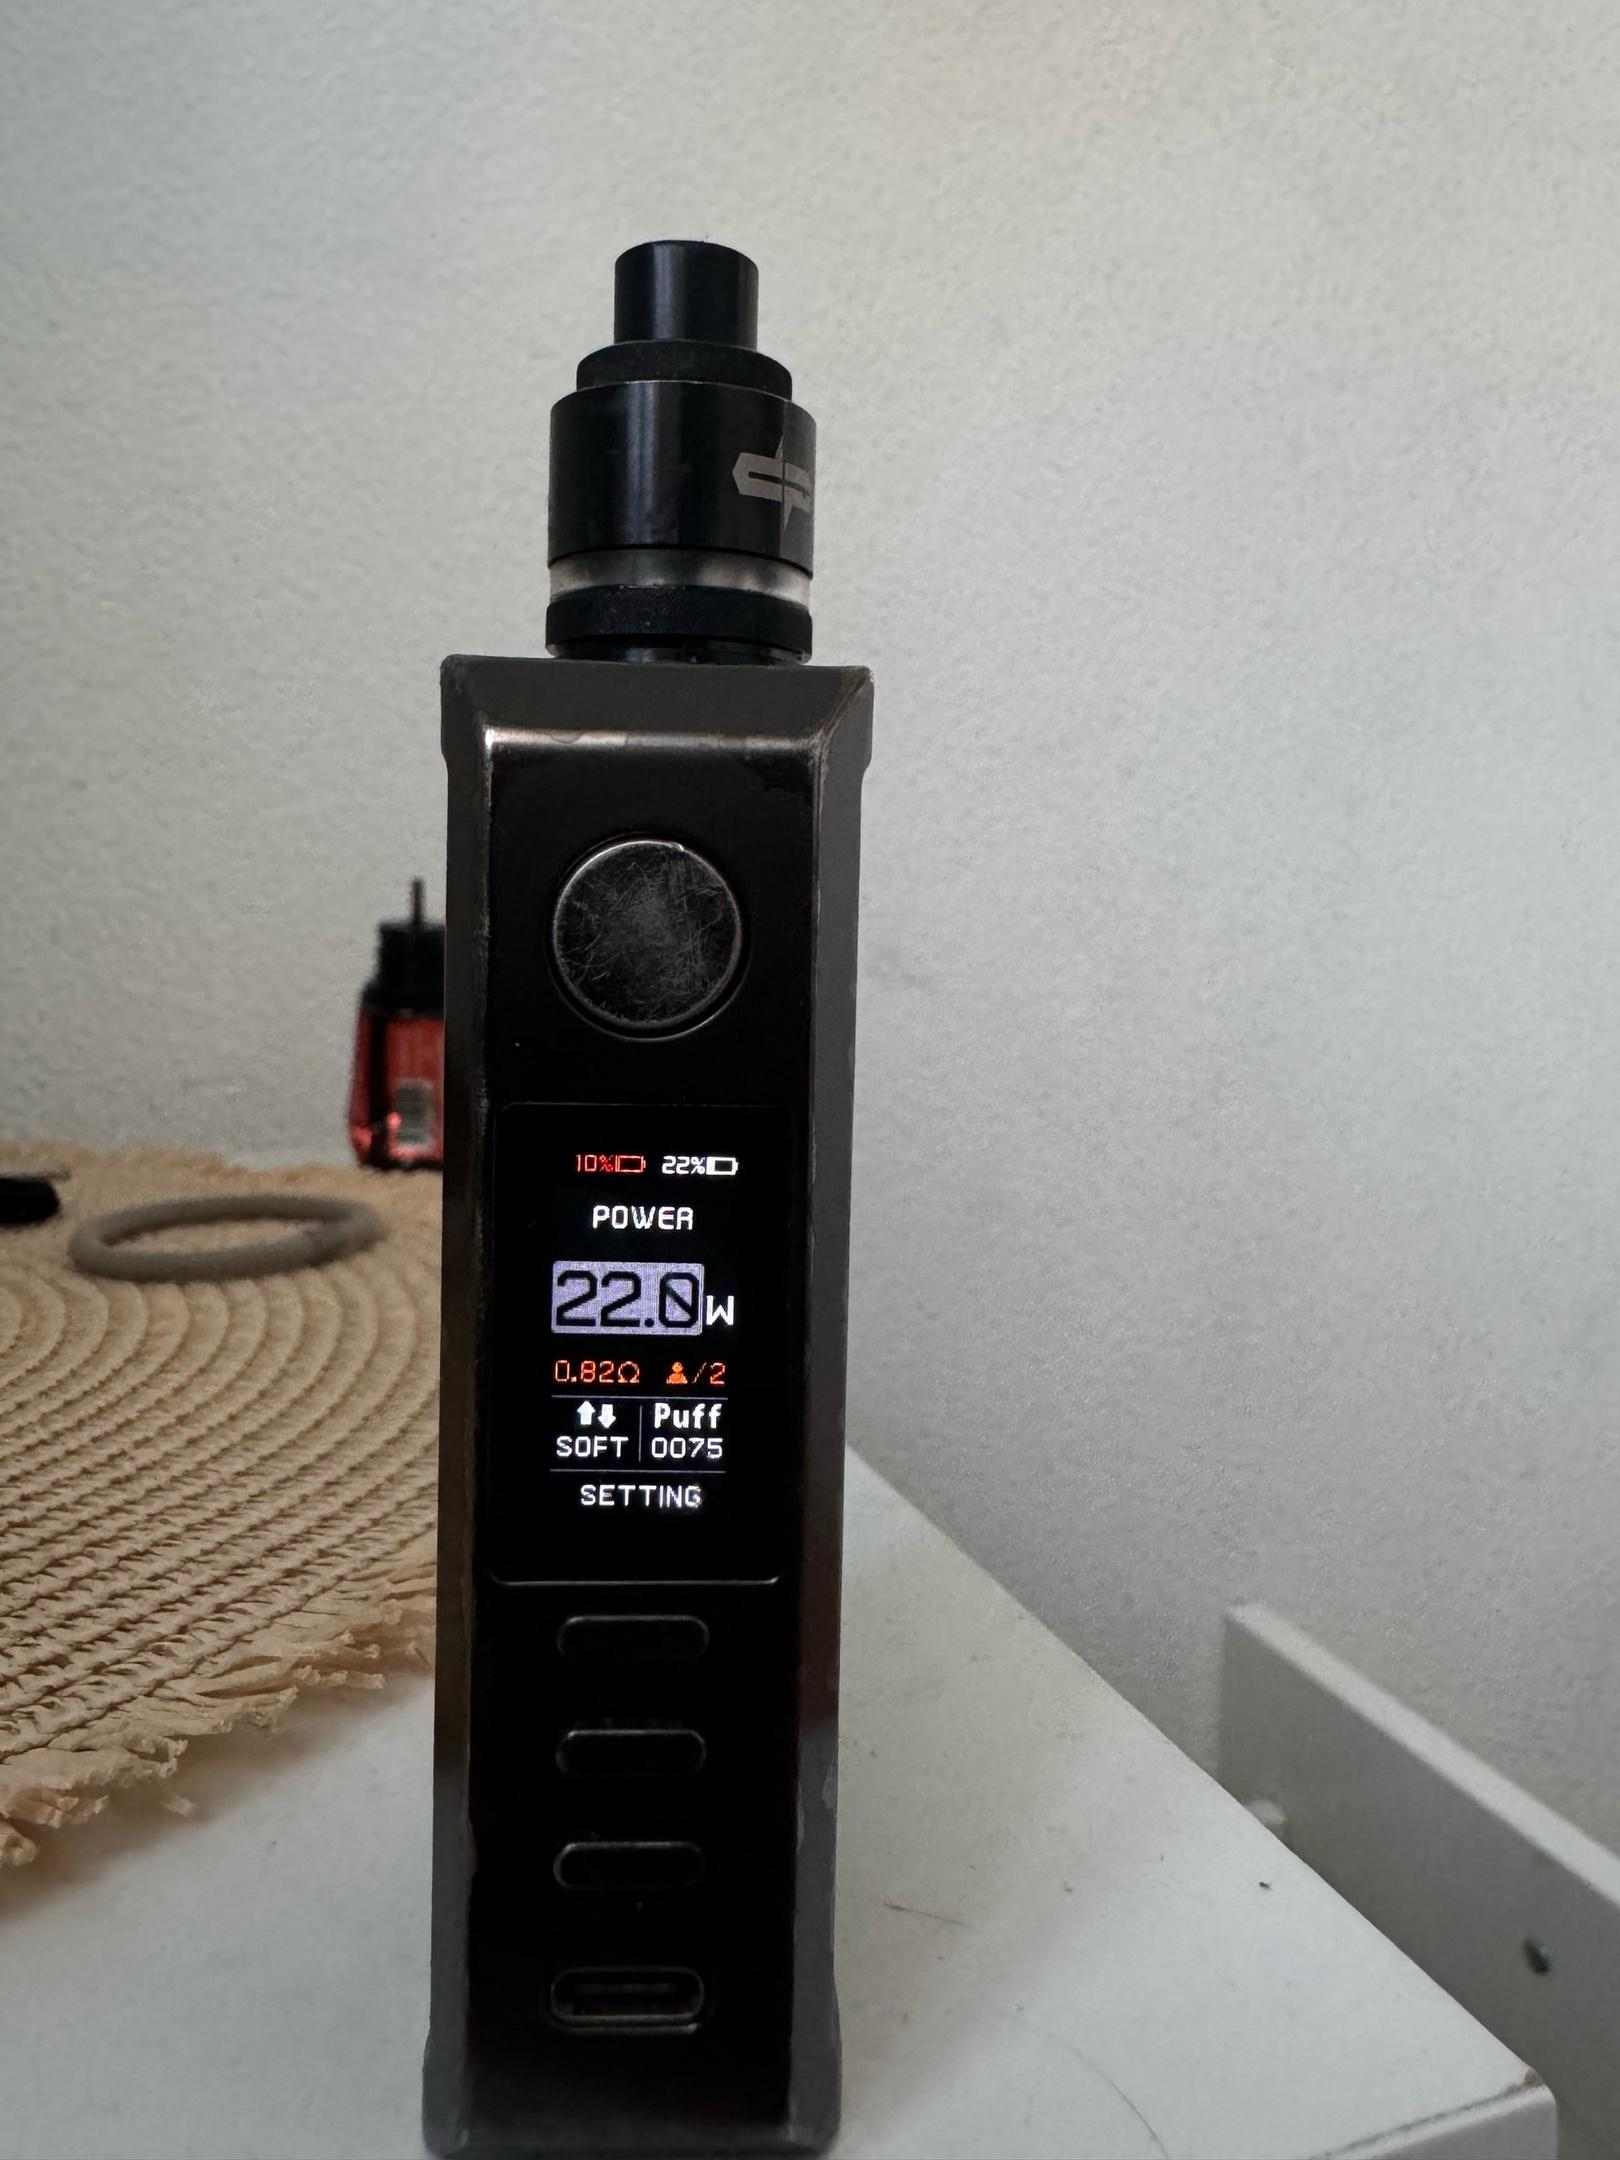Vape: (424, 242, 871, 2158)
